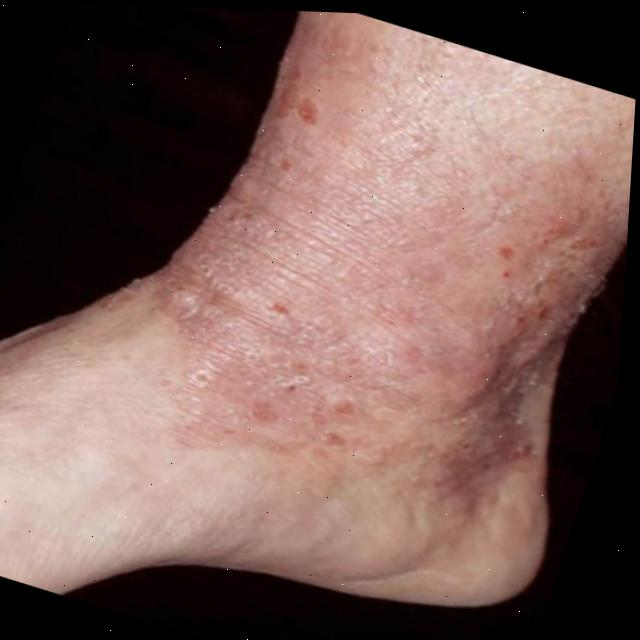Eczema: (87, 13, 630, 569)
